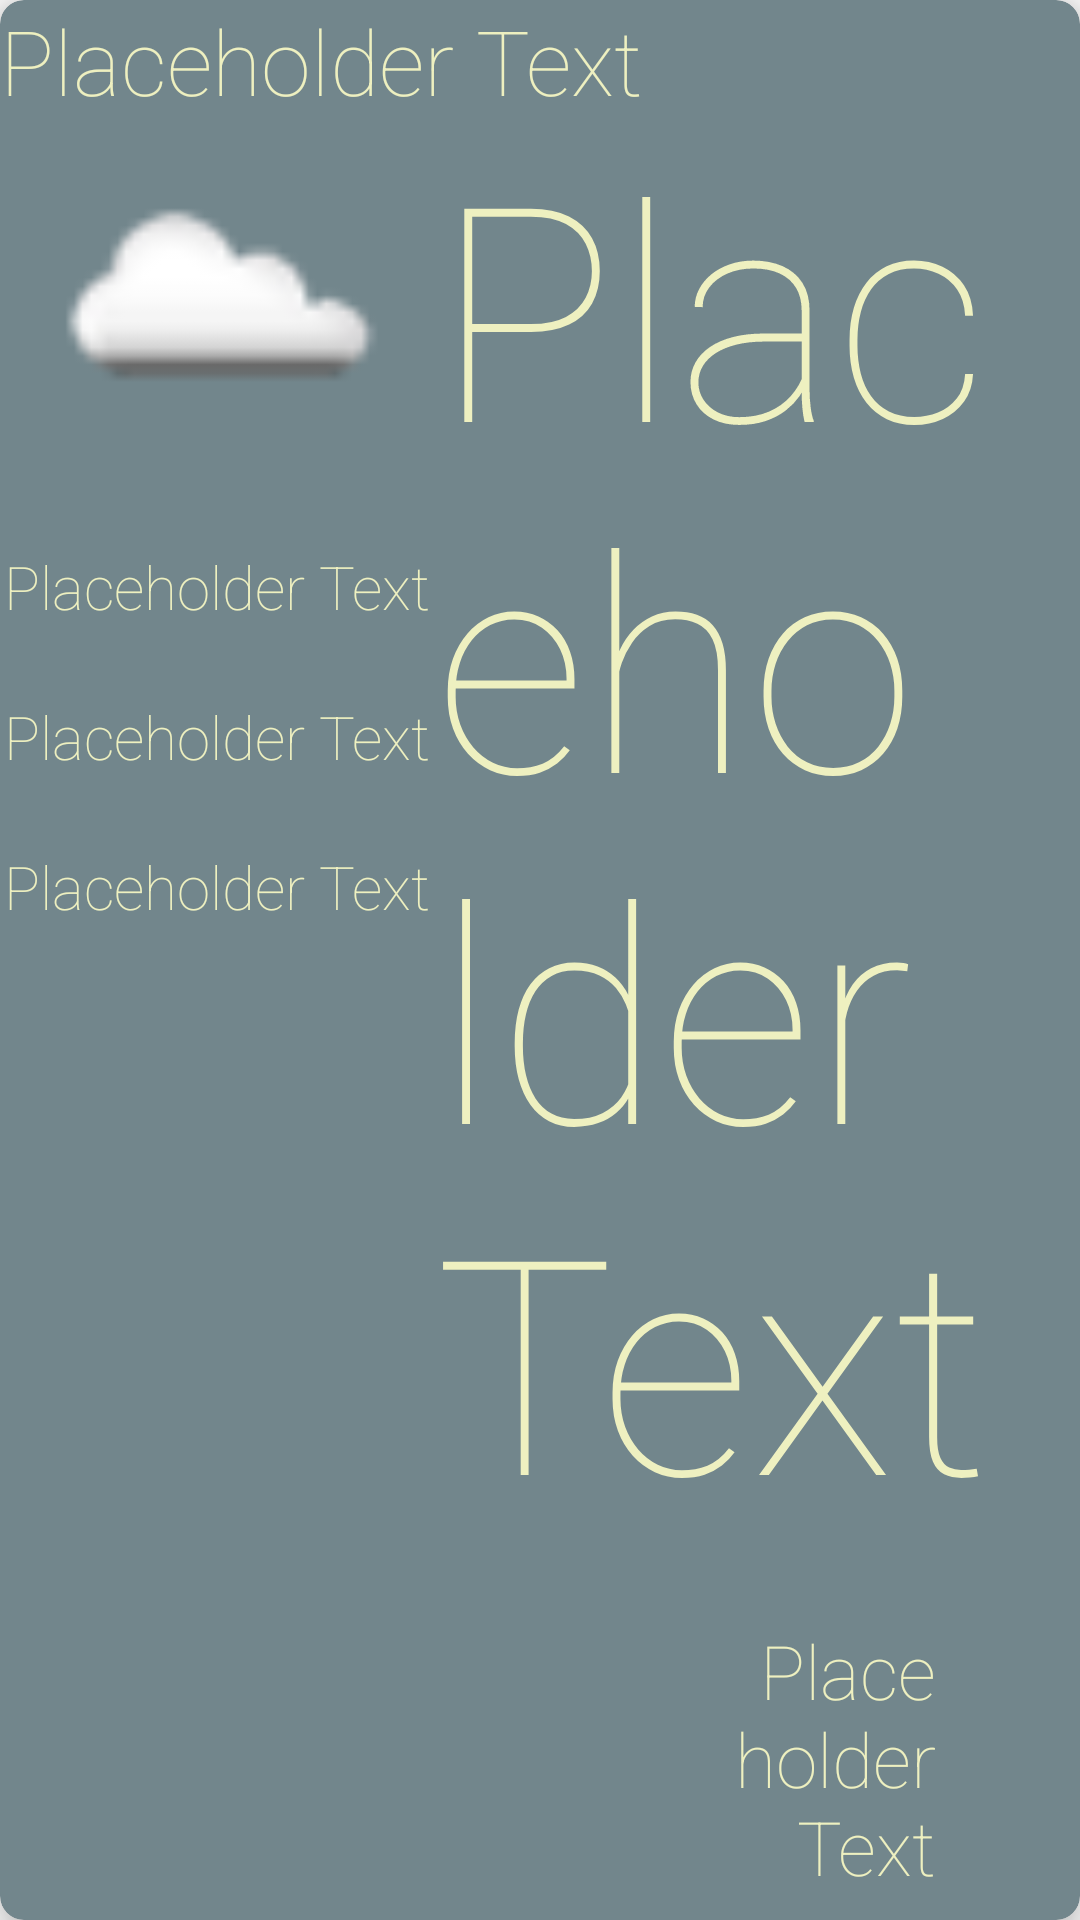

Icon click points for this 1080*1920 phone screenshot, format point (x, y):
clouds: point (219, 292)
